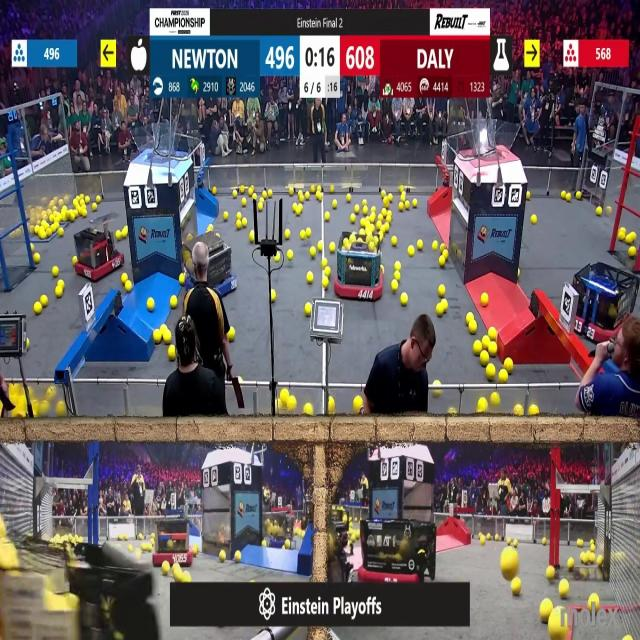ball_ground: (539, 600, 551, 620), (559, 582, 569, 600), (513, 580, 522, 596), (58, 403, 67, 419), (486, 363, 495, 378), (173, 566, 182, 581), (498, 368, 508, 381), (479, 397, 488, 411), (168, 346, 176, 361), (180, 570, 190, 582), (491, 392, 499, 406), (354, 396, 362, 410), (546, 566, 554, 579), (164, 332, 172, 345), (288, 396, 296, 409), (481, 352, 489, 365), (515, 407, 524, 418), (327, 397, 334, 411), (504, 359, 512, 371), (306, 404, 314, 416), (489, 328, 497, 340), (490, 343, 498, 355), (435, 305, 443, 317), (619, 230, 627, 242), (473, 342, 480, 355), (147, 299, 154, 312), (164, 562, 171, 575), (227, 330, 234, 343), (34, 304, 42, 315), (627, 233, 635, 244), (400, 292, 407, 304), (482, 292, 489, 304), (171, 295, 178, 307), (439, 285, 446, 297), (41, 294, 48, 306), (391, 280, 398, 292), (154, 333, 161, 345), (468, 322, 475, 334), (629, 246, 636, 258), (530, 407, 538, 417), (280, 389, 288, 399), (126, 281, 133, 292), (589, 554, 596, 565), (306, 304, 312, 316), (179, 274, 185, 286), (567, 558, 573, 570), (271, 290, 277, 302), (443, 302, 449, 314), (449, 409, 457, 418), (219, 552, 226, 562), (466, 312, 473, 322), (440, 256, 447, 266), (51, 268, 58, 278), (317, 242, 324, 252), (344, 239, 351, 249), (236, 552, 242, 563), (308, 273, 314, 284), (249, 232, 255, 243), (328, 242, 334, 253), (121, 228, 127, 239), (579, 553, 585, 564), (143, 542, 151, 550), (114, 632, 122, 640), (115, 232, 122, 241), (368, 223, 375, 232), (34, 252, 40, 262), (531, 214, 537, 224), (409, 246, 415, 256), (322, 278, 328, 288), (57, 287, 63, 297), (391, 237, 397, 247), (120, 273, 126, 283), (284, 230, 290, 240), (287, 250, 293, 260), (310, 247, 316, 257), (295, 205, 301, 215), (297, 192, 303, 202), (81, 208, 87, 218), (484, 337, 490, 347), (192, 544, 198, 554), (589, 600, 594, 612), (433, 390, 440, 398), (576, 538, 583, 546), (394, 263, 400, 272), (299, 231, 305, 240), (242, 218, 248, 227), (316, 190, 322, 199), (362, 207, 368, 216), (350, 214, 356, 223), (359, 218, 365, 227), (377, 221, 383, 230), (368, 214, 374, 223), (323, 268, 329, 277), (136, 550, 142, 559), (40, 231, 46, 240), (418, 240, 423, 250), (596, 208, 602, 216), (331, 200, 337, 208), (354, 206, 360, 214), (307, 230, 313, 238), (257, 204, 263, 212), (93, 204, 99, 212), (384, 223, 390, 231), (222, 212, 228, 220), (237, 220, 243, 228), (566, 194, 572, 202), (84, 197, 90, 205), (381, 190, 387, 198), (394, 272, 399, 281), (432, 242, 437, 251), (324, 212, 329, 221), (575, 190, 580, 199), (322, 257, 327, 266), (561, 190, 566, 199), (60, 229, 65, 238), (306, 191, 311, 200), (380, 233, 385, 242), (596, 599, 600, 610), (526, 191, 532, 198), (386, 209, 392, 216), (237, 212, 243, 219), (369, 207, 375, 214), (378, 214, 384, 221), (494, 534, 500, 541), (238, 377, 244, 384), (276, 253, 281, 261), (413, 200, 418, 208), (208, 223, 213, 231), (347, 193, 352, 201), (269, 189, 274, 197), (444, 250, 449, 258), (212, 186, 217, 194), (398, 203, 403, 211), (187, 234, 192, 242), (400, 192, 405, 200), (481, 536, 486, 544), (514, 539, 519, 547), (360, 227, 365, 235), (59, 280, 64, 287), (252, 193, 257, 200), (97, 195, 102, 202), (606, 207, 611, 214), (385, 195, 390, 202), (386, 215, 391, 222), (264, 540, 269, 547), (72, 256, 76, 264), (329, 185, 333, 193), (488, 536, 492, 544), (506, 537, 510, 545), (283, 542, 288, 548), (433, 381, 439, 386), (242, 200, 246, 207), (234, 190, 238, 197), (442, 244, 446, 251), (289, 188, 293, 195), (139, 533, 143, 540), (123, 533, 127, 540), (250, 578, 255, 583), (130, 544, 134, 550), (27, 340, 30, 348), (626, 636, 632, 640)
goal: (466, 124, 522, 159), (130, 130, 188, 160)
robot_blue: (198, 234, 238, 300), (260, 513, 294, 547)
robot_red: (570, 262, 636, 344), (604, 512, 640, 634), (361, 518, 415, 581), (334, 235, 383, 302), (76, 225, 124, 282), (153, 517, 195, 569)
